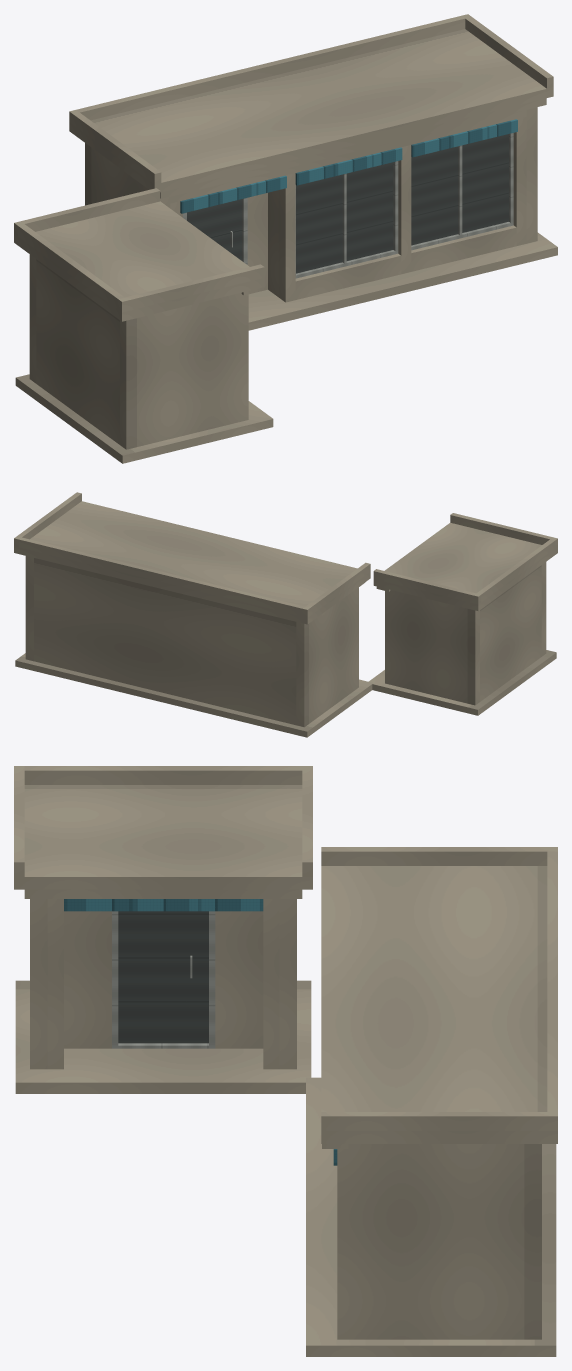
3 renders of one model, top to bottom at view 1: azimuth 30°, elevation 25°; view 2: azimuth 150°, elevation 25°; view 3: azimuth 270°, elevation 25°, orthographic. The views are drawn at different scales.
Visible parts, largest first — view 1: dushanbe; view 2: dushanbe; view 3: dushanbe.
Boxes of the visible parts, box(x1,y1,x2,y2) form: dushanbe: box(14, 14, 557, 463); dushanbe: box(14, 492, 557, 737); dushanbe: box(14, 766, 557, 1356).
Bounding box in the file's own units: 8.6 × 2.64 × 5.39.
Materials: 1 (1 with a texture image).
